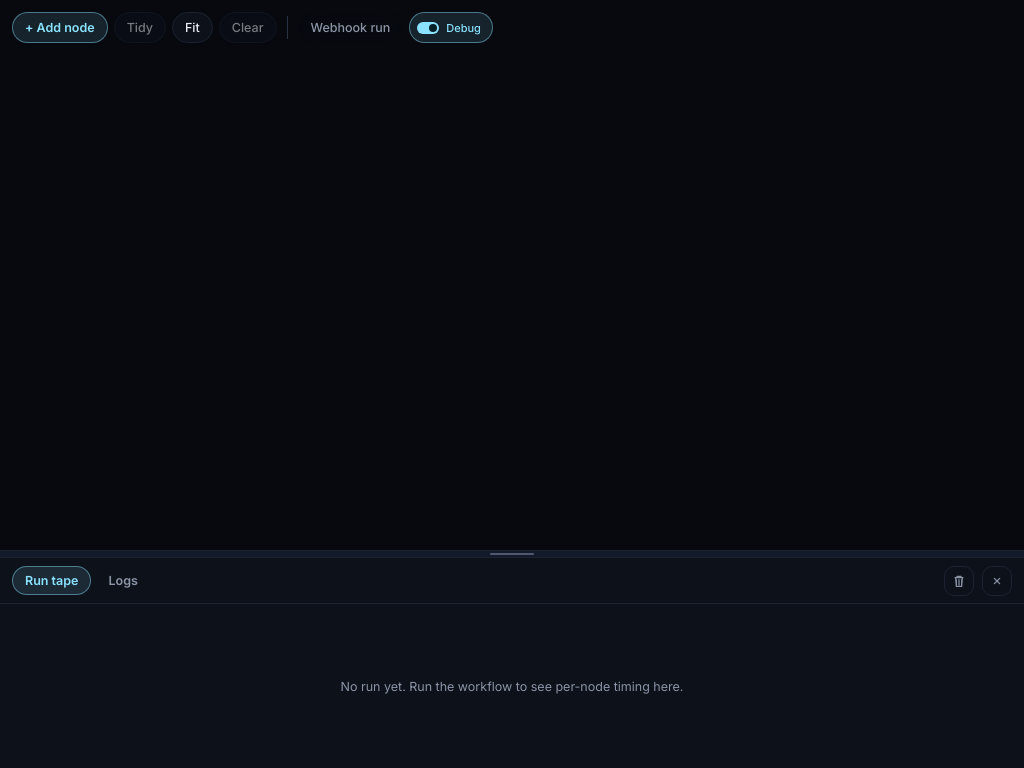
Test: WorkflowCanvasArea › shows the run tape placeholder by default and the logs placeholder on the Logs tab
Expected: the text "No run yet. Run the workflow to see per-node timing here." is shown, [340,678,683,694]
Click the tab "Logs": {"x": 123, "y": 580} [96,566,151,595]
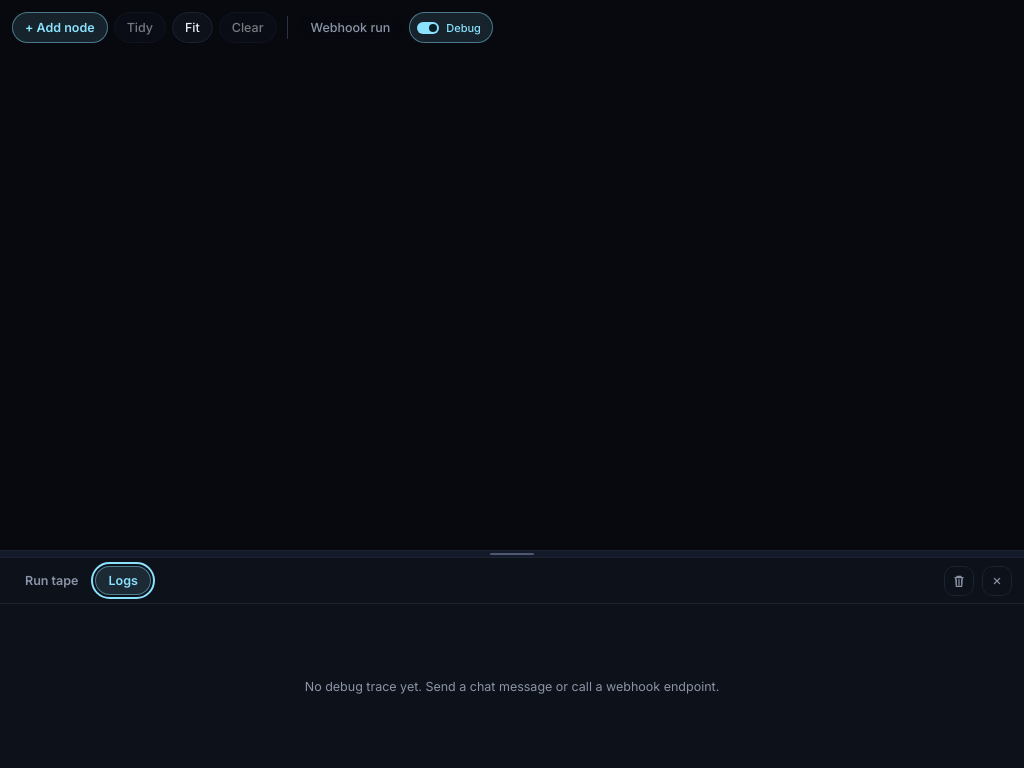
Expected: the text "No debug trace yet. Send a chat message or call a webhook endpoint." is shown, [305,678,719,694]
